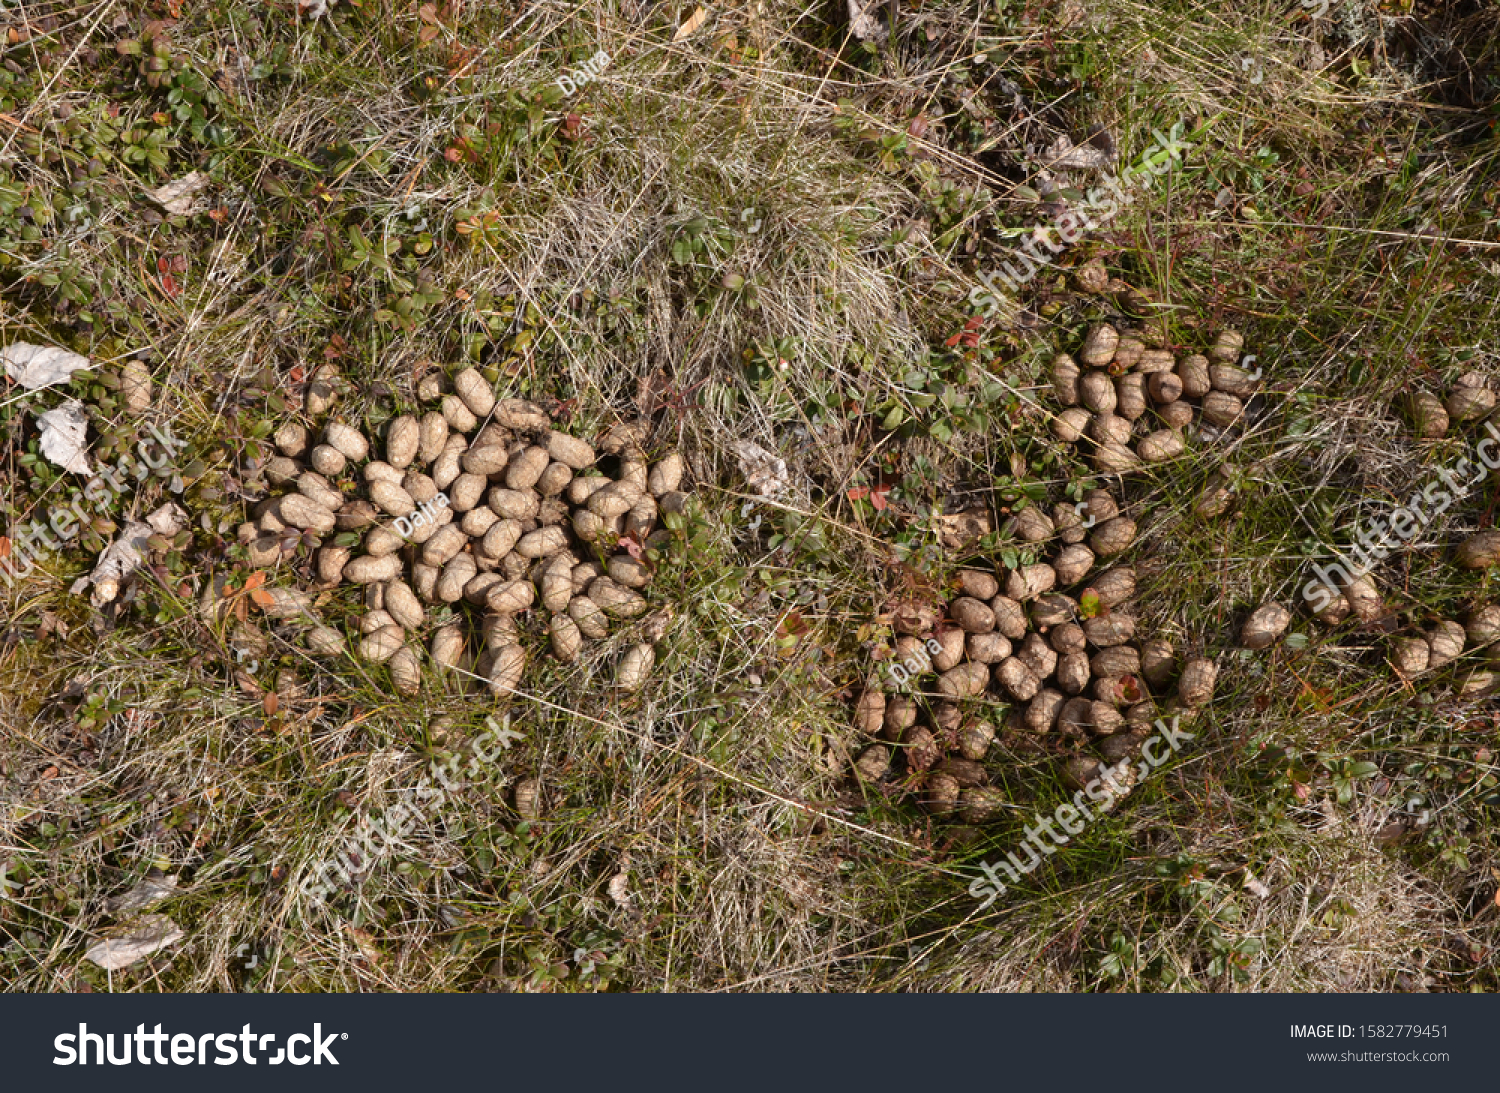Elk: (262, 379, 596, 647), (877, 489, 1149, 774), (1067, 308, 1254, 466)
